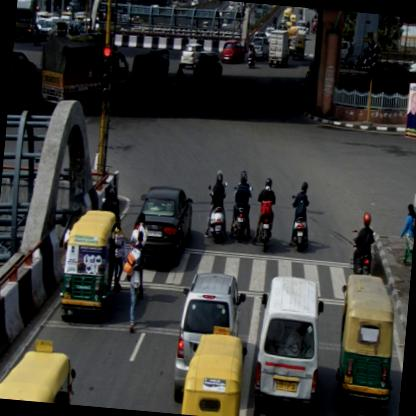car: (249, 275, 326, 415), (174, 270, 246, 407), (133, 186, 193, 265), (178, 40, 204, 70), (222, 40, 246, 66), (251, 34, 270, 61)
motorcycle: (250, 175, 278, 256), (203, 168, 231, 248), (230, 169, 256, 244), (288, 180, 312, 250)
truck: (37, 33, 132, 114), (14, 0, 40, 45), (268, 26, 292, 68)
